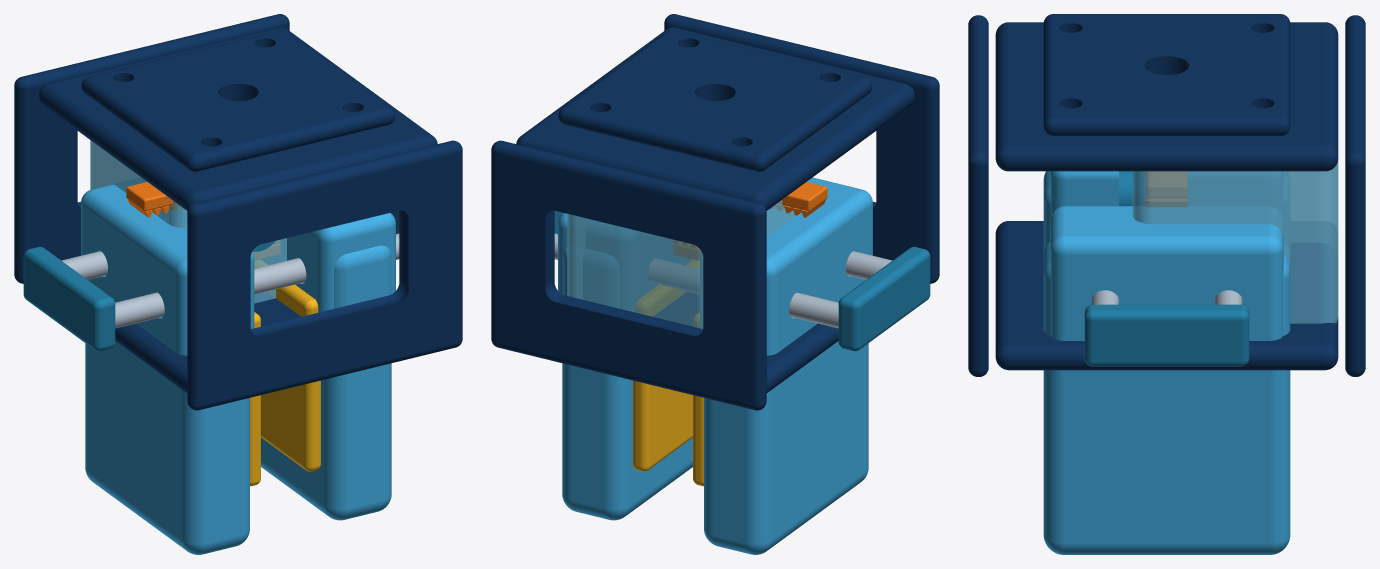
Rendered from G02_detailed_gripper_closed_candidate.glb.
3 renders of one model, left to right at view 1: azimuth 30°, elevation 25°; view 2: azimuth 150°, elevation 25°; view 3: azimuth 270°, elevation 25°, orthographic. The views are drawn at different scales.
Parts seen in each view (by area): view 1: R_PALM_FRONT_PLATE, R_FINGER_NEGATIVE, R_WRIST_MOUNT_PLATE, R_FINGER_POSITIVE, R_PALM_TOP_BRIDGE, R_PALM_REAR_PLATE, R_STOP_NEGATIVE, R_PAD_POSITIVE, R_PALM_BOTTOM_BRIDGE, R_ACTUATOR_VENDOR_CANDIDATE, R_GUIDE_ROD_FRONT, R_RACK_POSITIVE (+2 smaller); view 2: R_PALM_REAR_PLATE, R_FINGER_NEGATIVE, R_WRIST_MOUNT_PLATE, R_FINGER_POSITIVE, R_PALM_TOP_BRIDGE, R_PALM_FRONT_PLATE, R_ACTUATOR_VENDOR_CANDIDATE, R_STOP_NEGATIVE, R_PAD_POSITIVE, R_PALM_BOTTOM_BRIDGE, R_GUIDE_ROD_REAR, R_RACK_POSITIVE (+2 smaller); view 3: R_FINGER_POSITIVE, R_WRIST_MOUNT_PLATE, R_PALM_TOP_BRIDGE, R_PALM_BOTTOM_BRIDGE, R_ACTUATOR_VENDOR_CANDIDATE, R_STOP_POSITIVE, R_PALM_FRONT_PLATE, R_PALM_REAR_PLATE, R_FINGER_NEGATIVE, R_RACK_POSITIVE, R_MANUAL_RELEASE_HUB.
Boxes of the visible parts, bbox=[...] form: R_PALM_FRONT_PLATE: bbox=[187, 140, 462, 410]; R_FINGER_NEGATIVE: bbox=[81, 178, 254, 554]; R_WRIST_MOUNT_PLATE: bbox=[81, 30, 395, 171]; R_FINGER_POSITIVE: bbox=[261, 213, 395, 520]; R_PALM_TOP_BRIDGE: bbox=[39, 27, 437, 210]; R_PALM_REAR_PLATE: bbox=[14, 14, 289, 283]; R_STOP_NEGATIVE: bbox=[23, 246, 115, 351]; R_PAD_POSITIVE: bbox=[254, 260, 320, 471]; R_PALM_BOTTOM_BRIDGE: bbox=[115, 292, 300, 392]; R_ACTUATOR_VENDOR_CANDIDATE: bbox=[90, 140, 286, 303]; R_GUIDE_ROD_FRONT: bbox=[115, 233, 399, 328]; R_RACK_POSITIVE: bbox=[126, 182, 183, 217]; R_PALM_REAR_PLATE: bbox=[491, 140, 766, 410]; R_FINGER_NEGATIVE: bbox=[700, 177, 872, 554]; R_WRIST_MOUNT_PLATE: bbox=[558, 30, 872, 171]; R_FINGER_POSITIVE: bbox=[558, 213, 692, 520]; R_PALM_TOP_BRIDGE: bbox=[516, 27, 914, 210]; R_PALM_FRONT_PLATE: bbox=[664, 14, 939, 283]; R_ACTUATOR_VENDOR_CANDIDATE: bbox=[567, 200, 796, 328]; R_STOP_NEGATIVE: bbox=[838, 246, 930, 351]; R_PAD_POSITIVE: bbox=[633, 260, 699, 471]; R_PALM_BOTTOM_BRIDGE: bbox=[653, 292, 838, 392]; R_GUIDE_ROD_REAR: bbox=[554, 233, 838, 328]; R_RACK_POSITIVE: bbox=[770, 182, 827, 217]; R_FINGER_POSITIVE: bbox=[1043, 206, 1290, 554]; R_WRIST_MOUNT_PLATE: bbox=[1043, 14, 1290, 135]; R_PALM_TOP_BRIDGE: bbox=[995, 22, 1338, 171]; R_PALM_BOTTOM_BRIDGE: bbox=[995, 221, 1338, 370]; R_ACTUATOR_VENDOR_CANDIDATE: bbox=[1132, 160, 1338, 323]; R_STOP_POSITIVE: bbox=[1084, 304, 1249, 366]; R_PALM_FRONT_PLATE: bbox=[968, 15, 988, 376]; R_PALM_REAR_PLATE: bbox=[1345, 15, 1365, 376]; R_FINGER_NEGATIVE: bbox=[1043, 171, 1289, 253]; R_RACK_POSITIVE: bbox=[1146, 171, 1187, 206]; R_MANUAL_RELEASE_HUB: bbox=[1119, 171, 1145, 205].
Bounding box in the file's own units: 66 × 71 × 58.
